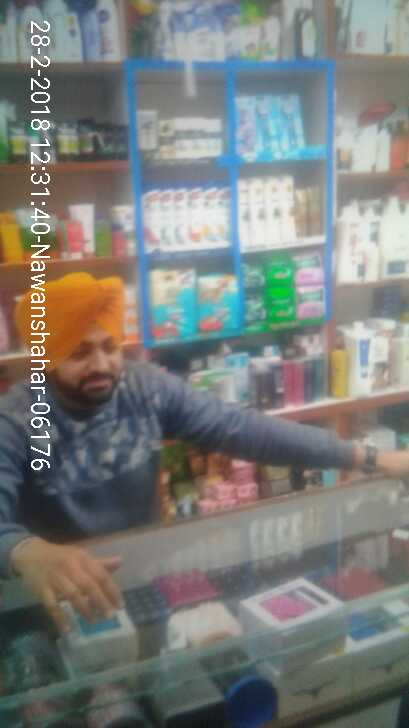venus: (280, 92, 304, 148), (258, 99, 280, 148), (237, 99, 258, 148)
